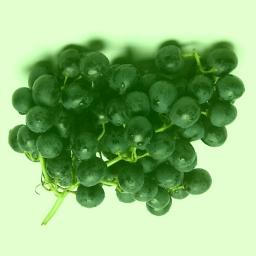kiwi: (8, 32, 252, 236)
